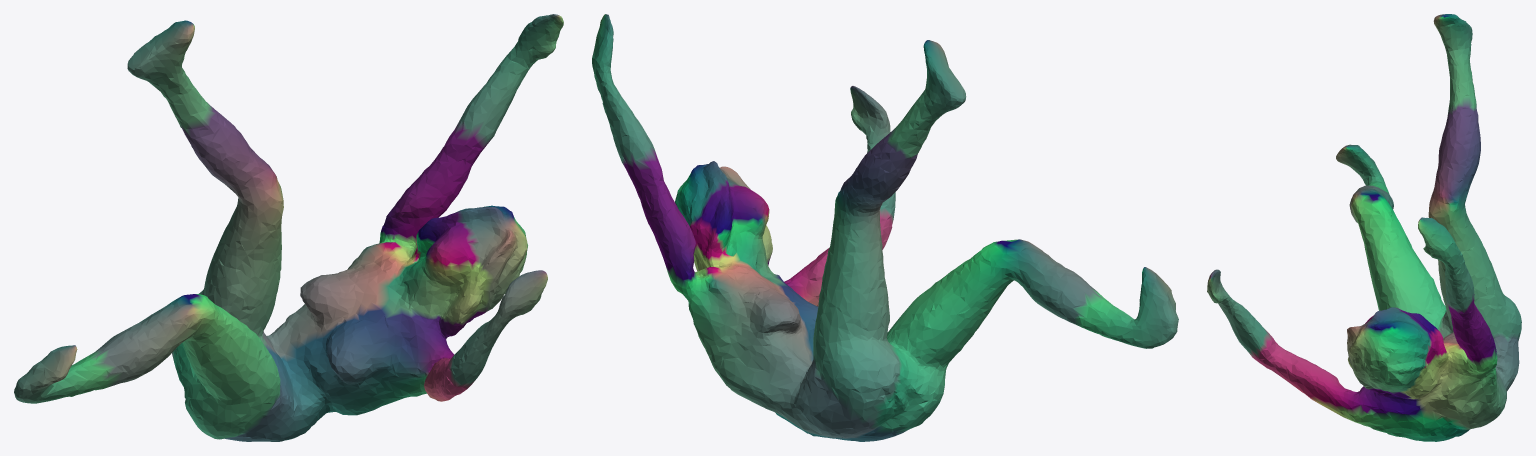
Rendered from woman-14.off.obj.
3 renders of one model, left to right at view 1: azimuth 30°, elevation 25°; view 2: azimuth 150°, elevation 25°; view 3: azimuth 270°, elevation 25°, orthographic. The views are drawn at different scales.
Bounding box in the file's own units: 1.53 × 1.11 × 0.8533.
